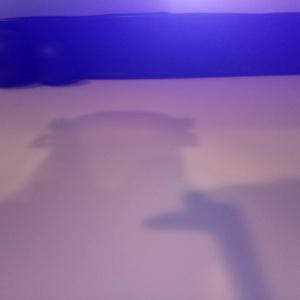dead_ball: (33, 40, 80, 85), (1, 29, 35, 87)
